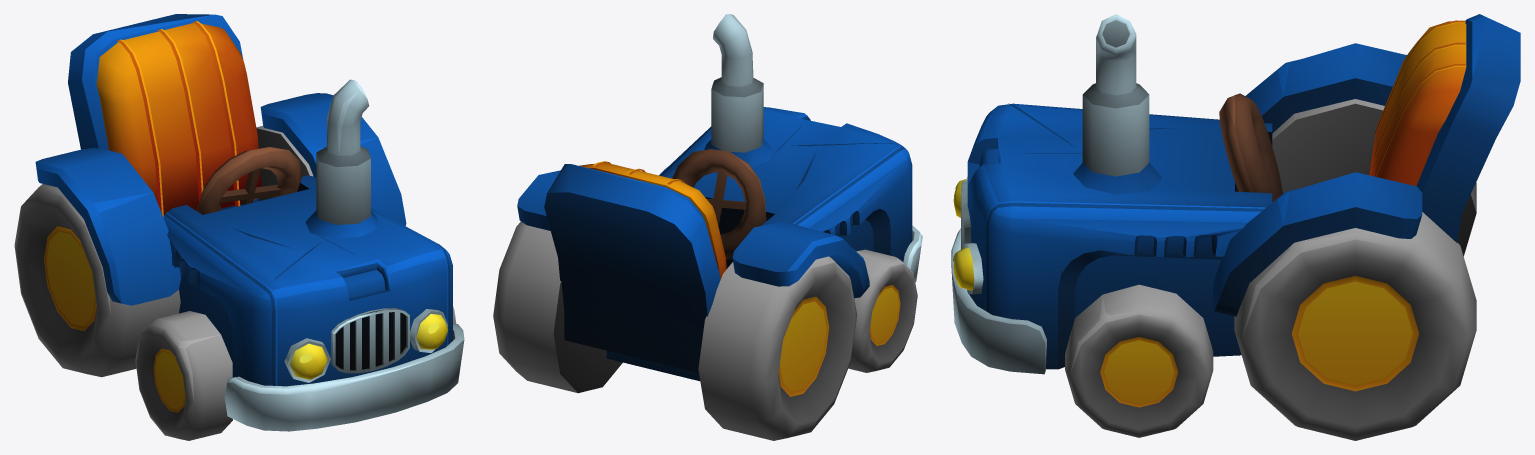
Rendered from truck_002.glb.
The picture shows the model from 3 angles, left to right: view 1: azimuth 30°, elevation 25°; view 2: azimuth 150°, elevation 25°; view 3: azimuth 270°, elevation 25°; orthographic projection. The views are drawn at different scales.
Parts seen in each view (by area): view 1: truck.002, truckwheel.005, truckwheel.004, trucktorus.002; view 2: truck.002, truckwheel.005, truckwheel.004, trucktorus.002; view 3: truck.002, truckwheel.005, truckwheel.009, trucktorus.002.
Part boxes in pixels (box(x1,y1,x2,y2)): truck.002: box(35, 14, 464, 431); truckwheel.005: box(14, 126, 313, 377); truckwheel.004: box(135, 311, 232, 440); trucktorus.002: box(196, 147, 301, 214); truck.002: box(517, 14, 922, 381); truckwheel.005: box(493, 221, 857, 440); truckwheel.004: box(848, 249, 917, 372); trucktorus.002: box(672, 149, 766, 259); truck.002: box(951, 14, 1520, 374); truckwheel.005: box(1234, 99, 1476, 440); truckwheel.009: box(1065, 284, 1213, 437); trucktorus.002: box(1219, 93, 1282, 202).
Size of the model in its own units: 1.7 by 1.78 by 2.42.
Materials: 1 (1 with a texture image).
